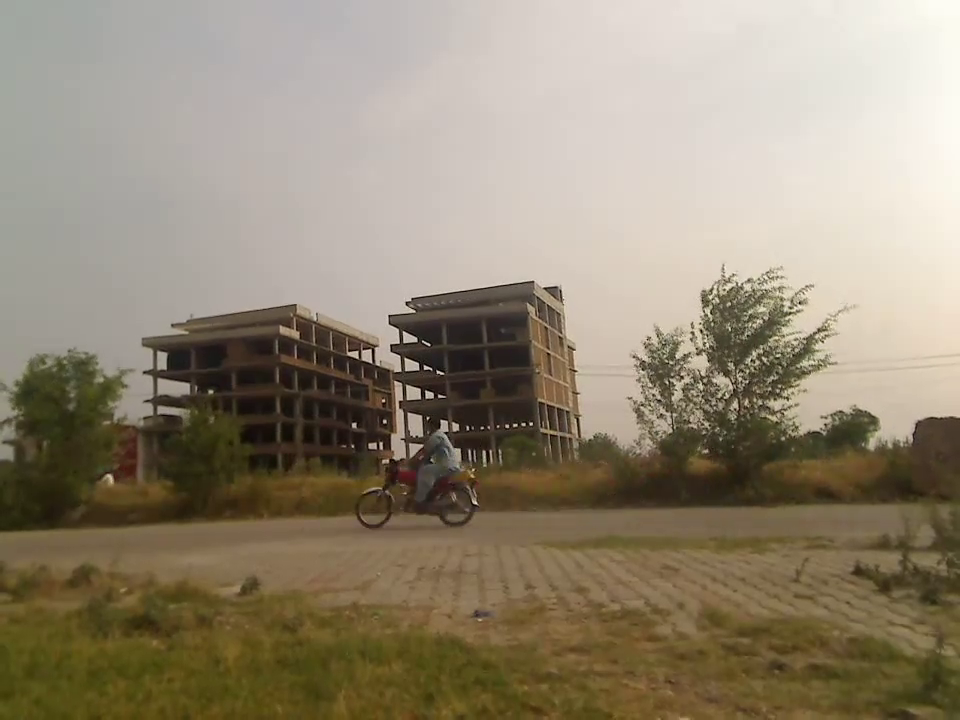motorcycle: (342, 432, 501, 535)
